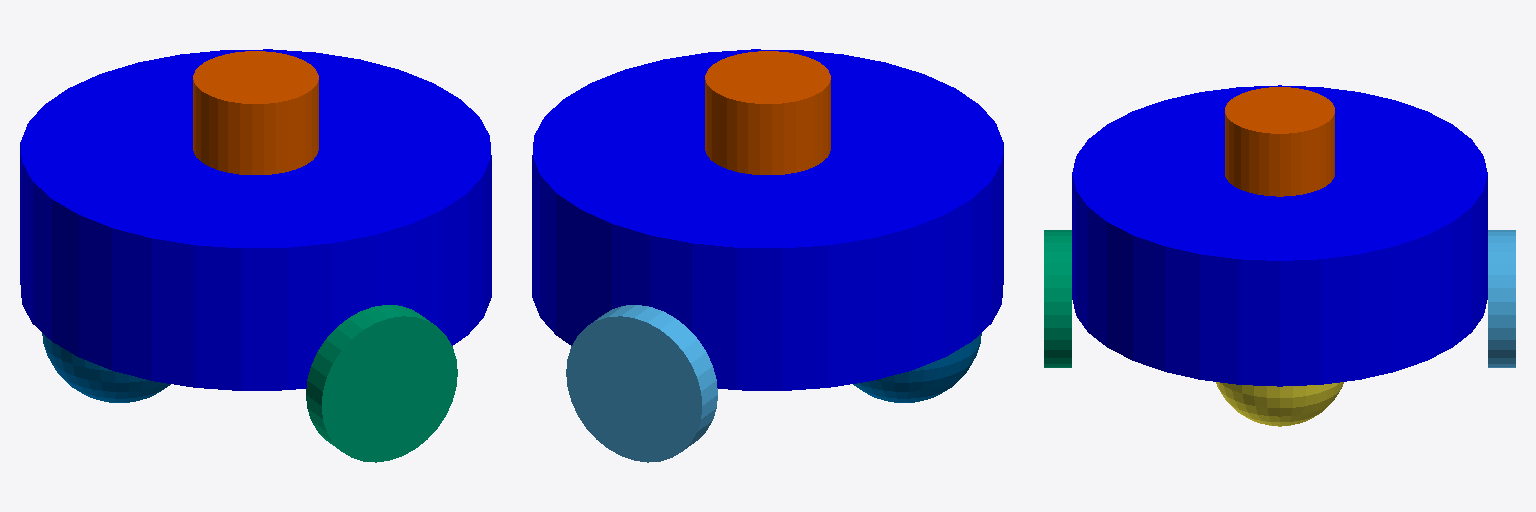
The robot description file, URDF, robot "reactive_robot":
<?xml version="1.0" ?>
<robot name="reactive_robot">

  <link name="base_link">
    <visual>
      <geometry><cylinder radius="0.15" length="0.1"/></geometry>
      <material name="blue"><color rgba="0 0 1 1"/></material>
    </visual>
    <collision>
      <geometry><cylinder radius="0.15" length="0.1"/></geometry>
    </collision>
    <inertial>
      <mass value="2.0"/>
      <inertia ixx="0.01" ixy="0.0" ixz="0.0" iyy="0.01" iyz="0.0" izz="0.02"/>
    </inertial>
  </link>

  <link name="left_wheel">
    <visual><geometry><cylinder radius="0.05" length="0.02"/></geometry></visual>
    <collision><geometry><cylinder radius="0.05" length="0.02"/></geometry></collision>
    <inertial><mass value="0.2"/><inertia ixx="0.001" ixy="0" ixz="0" iyy="0.001" iyz="0" izz="0.001"/></inertial>
  </link>
  <joint name="left_wheel_joint" type="continuous">
    <parent link="base_link"/>
    <child link="left_wheel"/>
    <origin xyz="0 0.16 -0.05" rpy="-1.5708 0 0"/>
    <axis xyz="0 0 1"/>
  </joint>

  <link name="right_wheel">
    <visual><geometry><cylinder radius="0.05" length="0.02"/></geometry></visual>
    <collision><geometry><cylinder radius="0.05" length="0.02"/></geometry></collision>
    <inertial><mass value="0.2"/><inertia ixx="0.001" ixy="0" ixz="0" iyy="0.001" iyz="0" izz="0.001"/></inertial>
  </link>
  <joint name="right_wheel_joint" type="continuous">
    <parent link="base_link"/>
    <child link="right_wheel"/>
    <origin xyz="0 -0.16 -0.05" rpy="-1.5708 0 0"/>
    <axis xyz="0 0 1"/>
  </joint>

  <link name="caster">
    <visual><geometry><sphere radius="0.05"/></geometry></visual>
    <collision><geometry><sphere radius="0.05"/></geometry></collision>
    <inertial><mass value="0.1"/><inertia ixx="0.001" ixy="0" ixz="0" iyy="0.001" iyz="0" izz="0.001"/></inertial>
  </link>
  <joint name="caster_joint" type="fixed">
    <parent link="base_link"/>
    <child link="caster"/>
    <origin xyz="0.1 0 -0.05" rpy="0 0 0"/>
  </joint>

  <link name="rear_caster">
    <visual><geometry><sphere radius="0.05"/></geometry></visual>
    <collision><geometry><sphere radius="0.05"/></geometry></collision>
    <inertial><mass value="0.1"/><inertia ixx="0.001" ixy="0" ixz="0" iyy="0.001" iyz="0" izz="0.001"/></inertial>
  </link>
  <joint name="rear_caster_joint" type="fixed">
    <parent link="base_link"/>
    <child link="rear_caster"/>
    <origin xyz="-0.1 0 -0.05" rpy="0 0 0"/>
  </joint>

  <link name="lidar_link">
    <visual><geometry><cylinder radius="0.04" length="0.05"/></geometry></visual>
  </link>
  <joint name="lidar_joint" type="fixed">
    <parent link="base_link"/>
    <child link="lidar_link"/>
    <origin xyz="0 0 0.075" rpy="0 0 0"/>
  </joint>

  <gazebo reference="caster">
    <mu1>0.0</mu1>
    <mu2>0.0</mu2>
  </gazebo>
  <gazebo reference="rear_caster">
    <mu1>0.0</mu1>
    <mu2>0.0</mu2>
  </gazebo>

  <gazebo>
    <plugin filename="gz-sim-diff-drive-system" name="gz::sim::systems::DiffDrive">
      <left_joint>left_wheel_joint</left_joint>
      <right_joint>right_wheel_joint</right_joint>
      <wheel_separation>0.32</wheel_separation>
      <wheel_radius>0.05</wheel_radius>
      <odom_publish_frequency>50</odom_publish_frequency>
      <topic>cmd_vel</topic>
    </plugin>
  </gazebo>

  <gazebo reference="lidar_link">
    <sensor name="lidar" type="gpu_lidar">
      <pose>0 0 0 0 0 0</pose>
      <topic>scan</topic>
      <update_rate>10</update_rate>
      <ray>
        <scan>
          <horizontal>
            <samples>360</samples>
            <resolution>1</resolution>
            <min_angle>-3.14159</min_angle>
            <max_angle>3.14159</max_angle>
          </horizontal>
        </scan>
        <range>
          <min>0.15</min>
          <max>8.0</max>
          <resolution>0.01</resolution>
        </range>
      </ray>
      <always_on>1</always_on>
      <visualize>true</visualize>
    </sensor>
  </gazebo>

</robot>

--- Facts derived from the render (not from the file) ---
3 views of the same robot in one strip: view 1: azimuth 30°, elevation 25°; view 2: azimuth 150°, elevation 25°; view 3: azimuth 270°, elevation 25° (orthographic).
Model reactive_robot with 6 links and 5 joints (2 continuous, 3 fixed), rooted at base_link, posed all joints at 0.
Visible links, largest first — view 1: base_link, right_wheel, lidar_link, rear_caster; view 2: base_link, left_wheel, lidar_link, rear_caster; view 3: base_link, lidar_link, left_wheel, right_wheel, caster.
Boxes of the visible links, left/top/right/bottom form: base_link: left=20, top=49, right=491, bottom=390; right_wheel: left=306, top=305, right=457, bottom=462; lidar_link: left=193, top=51, right=318, bottom=174; rear_caster: left=42, top=333, right=170, bottom=402; base_link: left=532, top=49, right=1003, bottom=390; left_wheel: left=566, top=305, right=717, bottom=462; lidar_link: left=705, top=51, right=830, bottom=174; rear_caster: left=853, top=333, right=981, bottom=402; base_link: left=1072, top=85, right=1487, bottom=386; lidar_link: left=1225, top=87, right=1334, bottom=196; left_wheel: left=1488, top=230, right=1515, bottom=367; right_wheel: left=1044, top=230, right=1071, bottom=367; caster: left=1216, top=382, right=1343, bottom=426.
Size in the robot's own frame: 0.3 by 0.34 by 0.2 metres.
Geometry: primitives only (box / cylinder / sphere), no mesh files.
